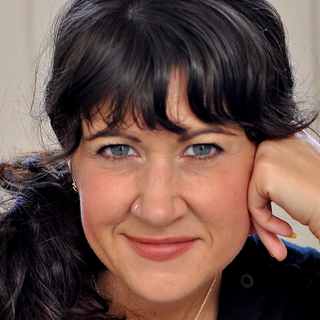eye: (179, 138, 227, 163), (94, 139, 143, 163)
